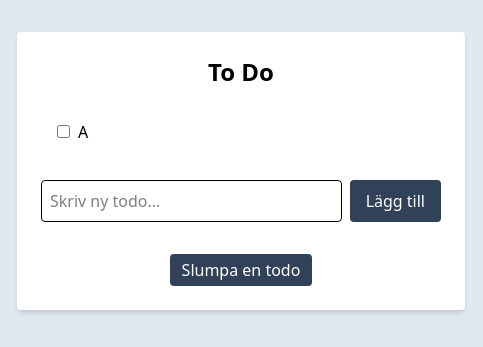
TodoList with input › displays chosen todo when RandomTodo button is clicked
Click the button "Slumpa en todo".
click(241, 270)  # box [170,254,312,286]
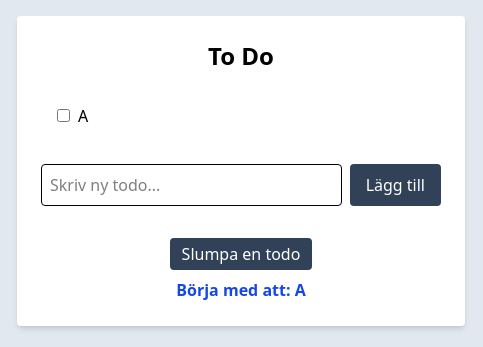
Now the text "Börja med att: A" is shown, box [176,278,306,302]
